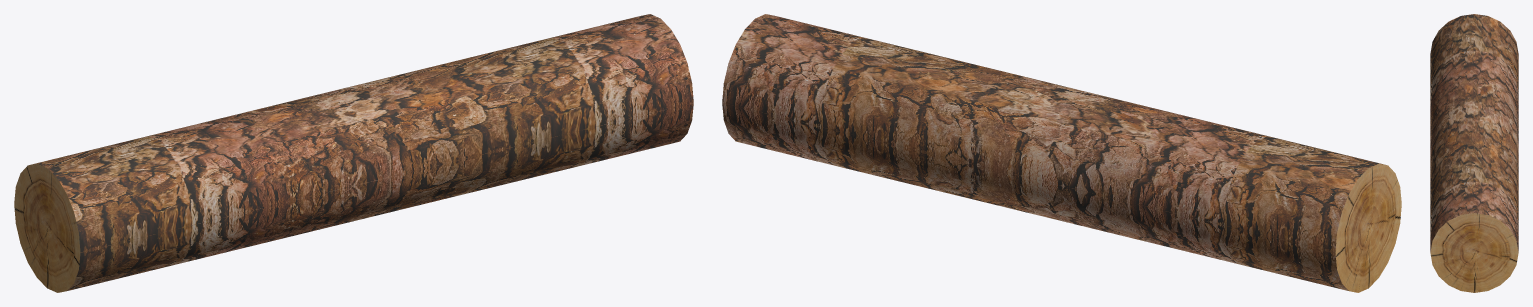
The model's file is log2.fbx.
3 views of the same model, side by side, from view 1: azimuth 30°, elevation 25°; view 2: azimuth 150°, elevation 25°; view 3: azimuth 270°, elevation 25° (orthographic). The views are drawn at different scales.
Visible parts, largest first — view 1: pCylinder1; view 2: pCylinder1; view 3: pCylinder1.
Boxes of the visible parts, x1,y1,x2,y2 form: pCylinder1: [14, 14, 693, 292]; pCylinder1: [722, 14, 1401, 292]; pCylinder1: [1430, 14, 1518, 292].
Bounding box in the file's own units: 6.93 × 1.3 × 1.3.
